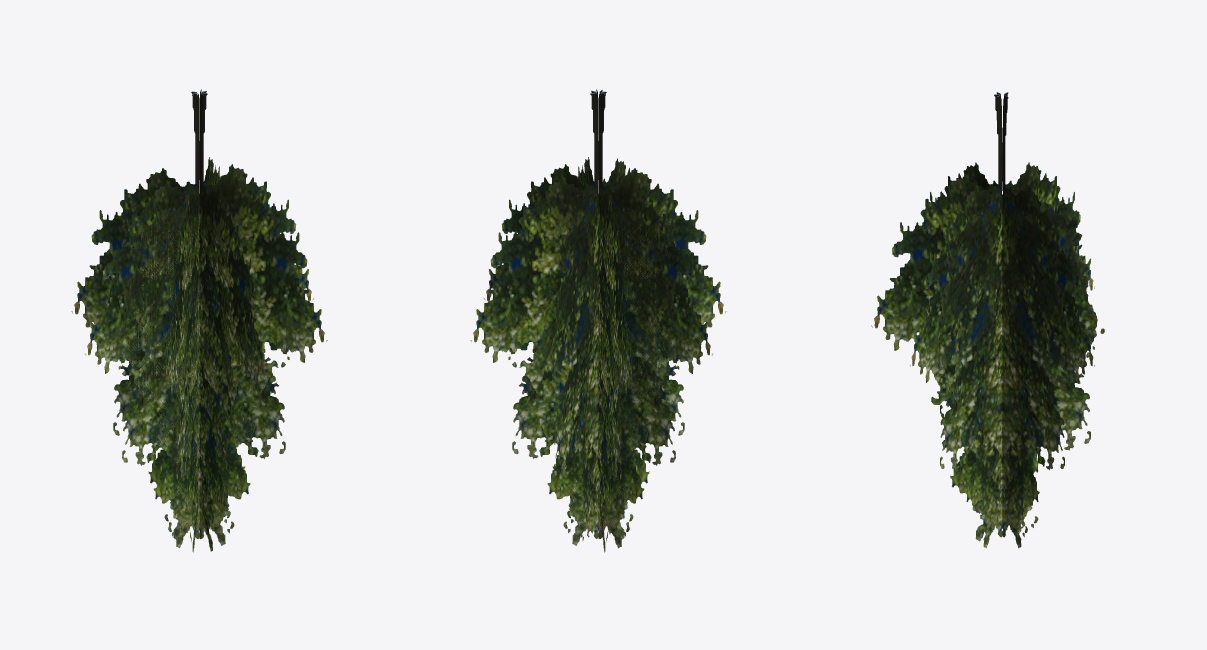
File: strom_2.fbx
The picture shows the model from 3 angles, left to right: view 1: azimuth 30°, elevation 25°; view 2: azimuth 150°, elevation 25°; view 3: azimuth 270°, elevation 25°; orthographic projection.
Parts seen in each view (by area): view 1: Plane; view 2: Plane; view 3: Plane.
Boxes of the visible parts, bbox=[...] form: Plane: bbox=[71, 89, 327, 552]; Plane: bbox=[470, 89, 726, 552]; Plane: bbox=[871, 92, 1104, 548].
Bounding box in the file's own units: 4.87 × 6.52 × 4.87.
Materials: 1 (1 with a texture image).
